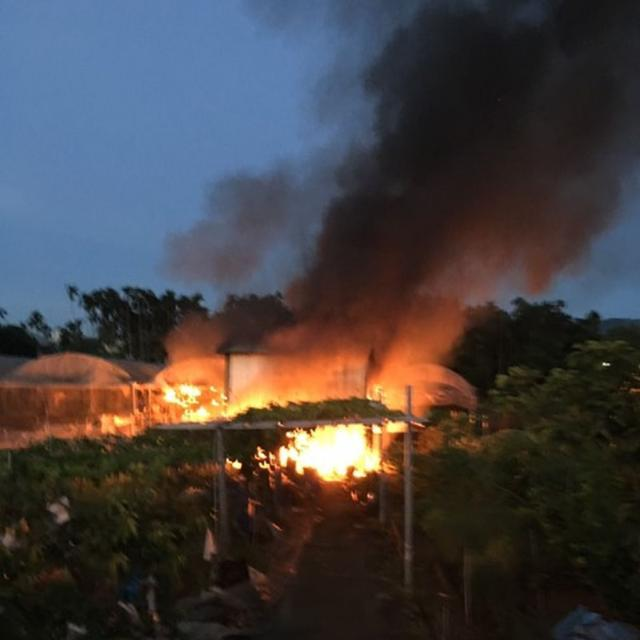Fire: (236, 423, 397, 486), (160, 374, 230, 426), (108, 411, 136, 431), (368, 384, 389, 408)
Smoke: (245, 0, 640, 359), (163, 166, 300, 358)
